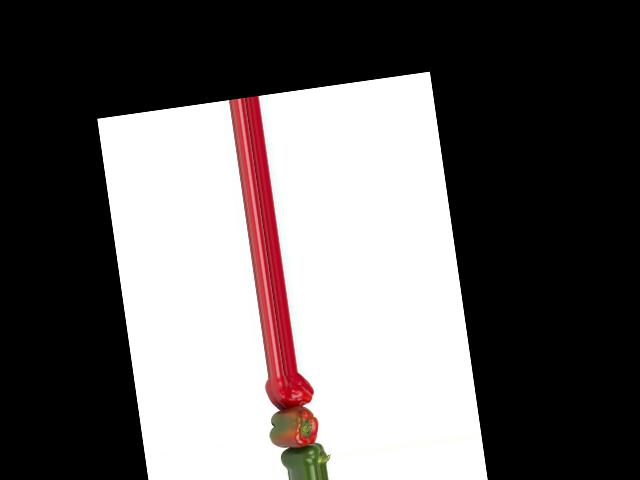bell_pepper: (261, 370, 319, 413)
